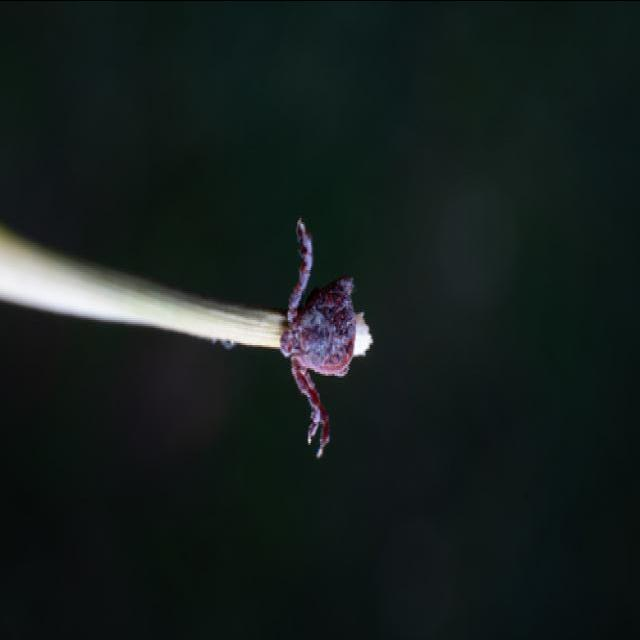Dermacentor Reticulatus-F: (279, 217, 356, 457)
